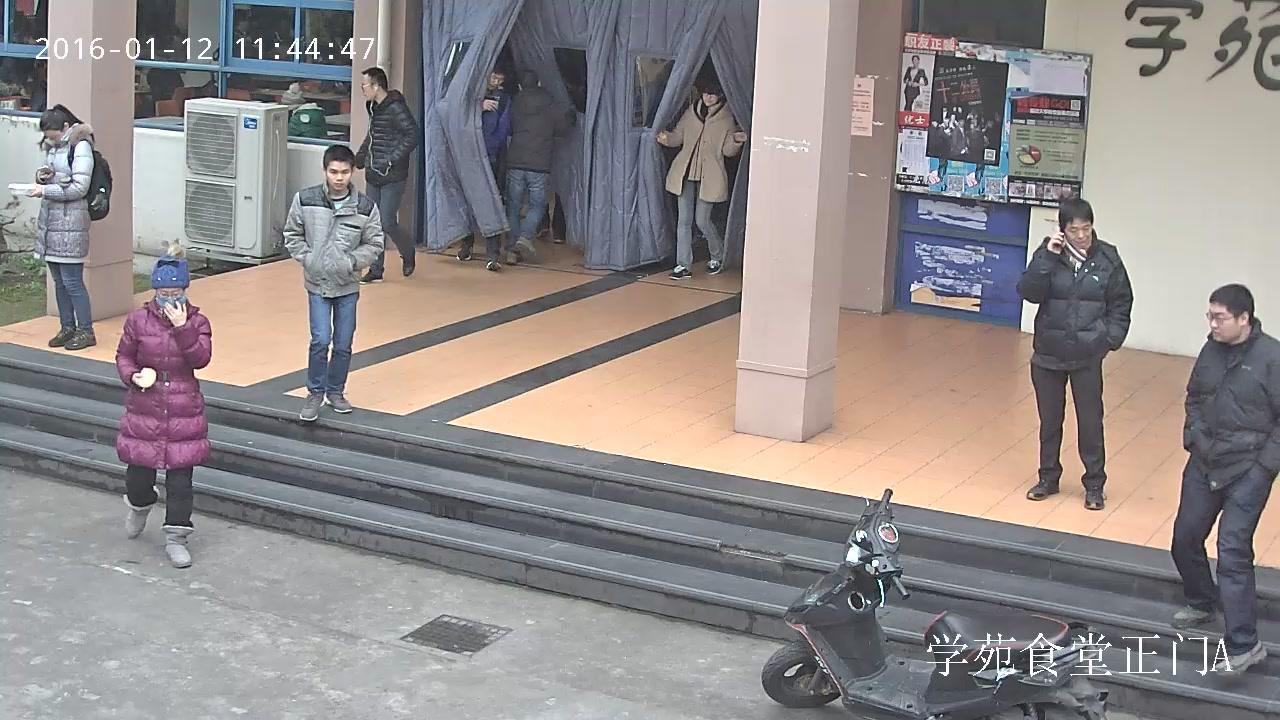person: (1170, 282, 1280, 676), (1017, 197, 1133, 509), (115, 251, 212, 568), (283, 144, 384, 421), (7, 102, 112, 350), (656, 78, 748, 280), (352, 67, 420, 284), (501, 69, 569, 264), (457, 63, 515, 271), (279, 83, 328, 139), (230, 9, 257, 90), (902, 54, 928, 113)
